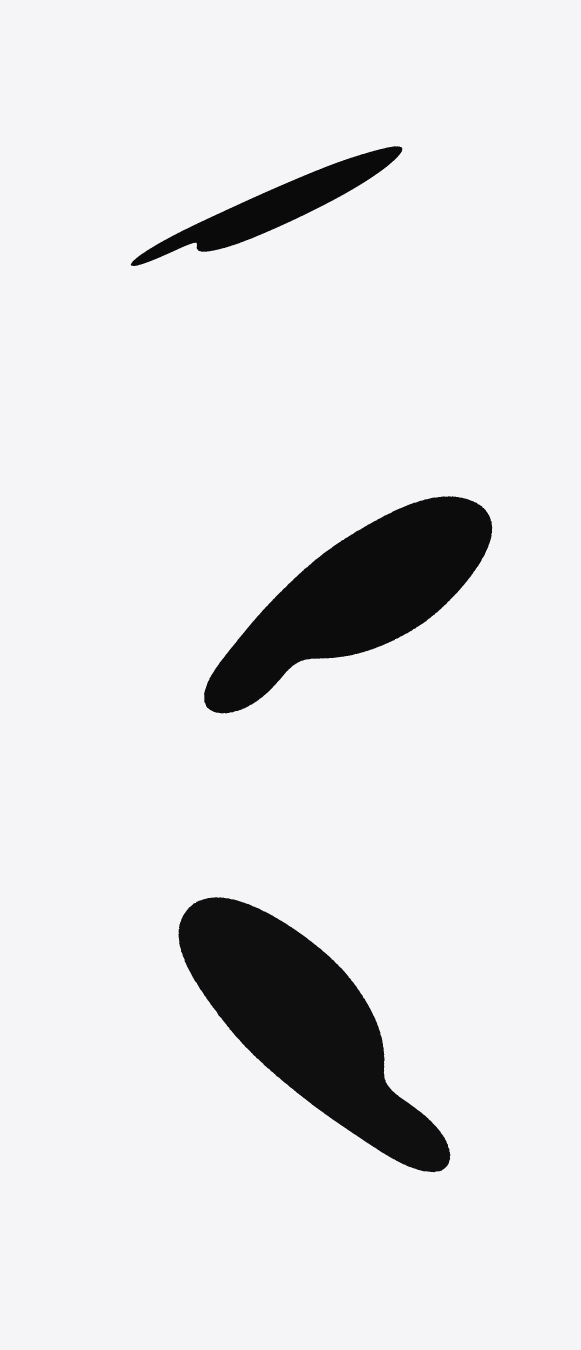
The model's file is ButterflyFlyingShadow.fbx.
The picture shows the model from 3 angles, top to bottom: view 1: azimuth 90°, elevation 25°; view 2: azimuth 150°, elevation 25°; view 3: azimuth 270°, elevation 25°; orthographic projection. The views are drawn at different scales.
Visible parts, largest first — view 1: ButterflyFlyingShadow; view 2: ButterflyFlyingShadow; view 3: ButterflyFlyingShadow.
Part boxes in pixels (x1=…): ButterflyFlyingShadow: x1=131, y1=146, x2=402, y2=265; ButterflyFlyingShadow: x1=204, y1=496, x2=492, y2=713; ButterflyFlyingShadow: x1=178, y1=897, x2=450, y2=1171.
Size of the model in its own units: 294 by 154 by 287.
